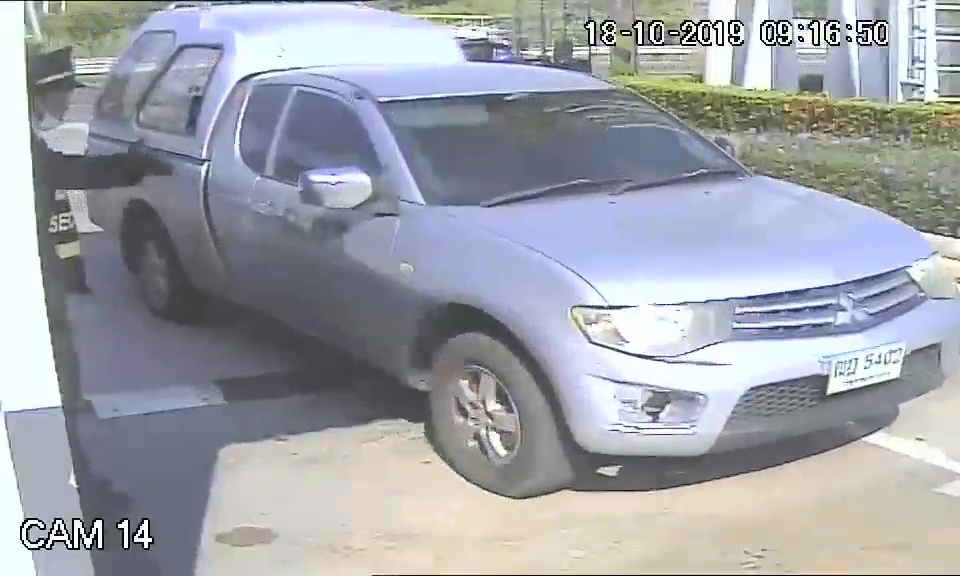pickup: (85, 47, 954, 501)
